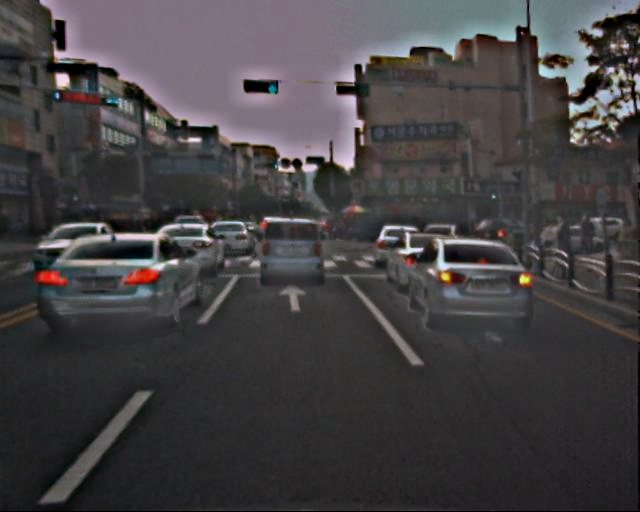person: (550, 216, 573, 273), (538, 222, 557, 268), (580, 215, 596, 253)
